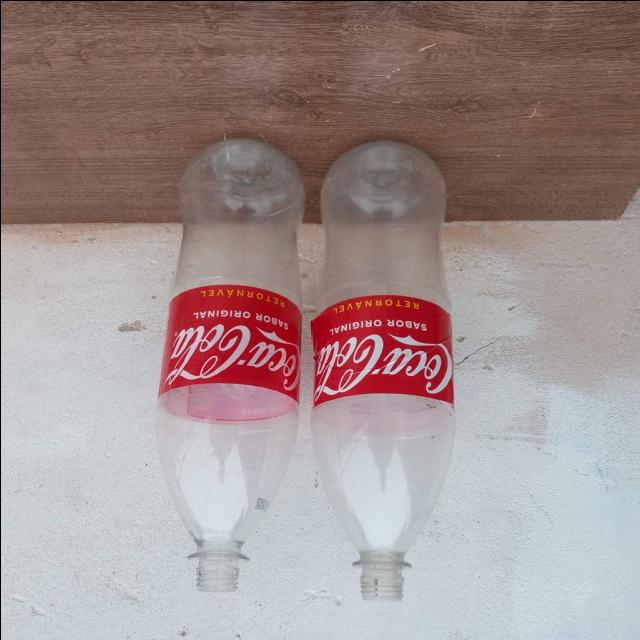bottom: (315, 140, 449, 312), (171, 138, 304, 306)
label: (158, 284, 300, 401), (311, 294, 453, 405)
neck: (310, 394, 454, 598), (155, 404, 297, 591)
